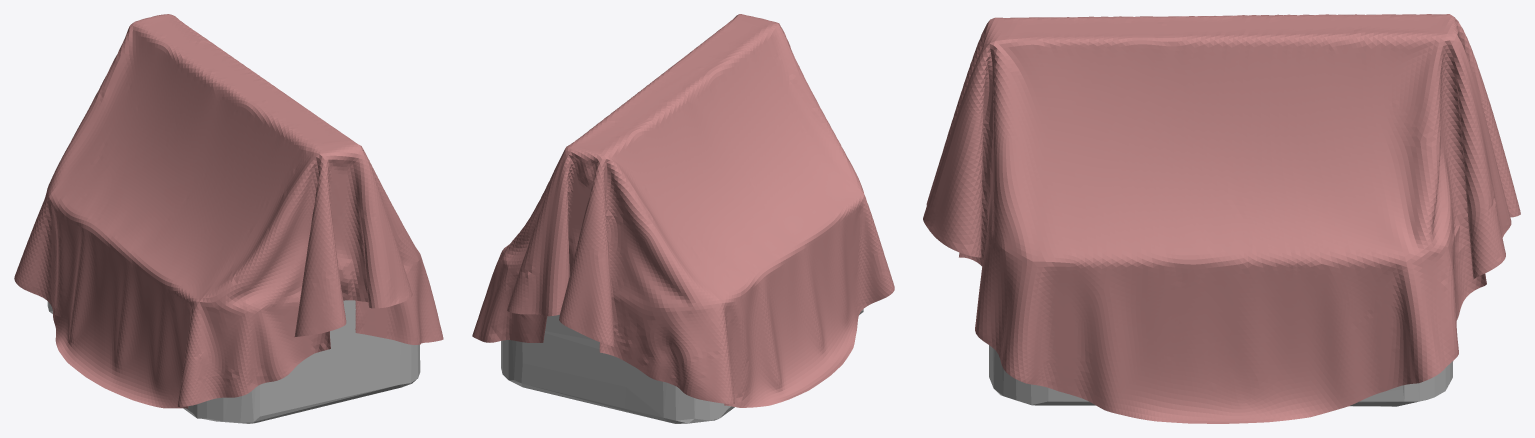
The model's file is level_3.glb.
3 renders of one model, left to right at view 1: azimuth 30°, elevation 25°; view 2: azimuth 150°, elevation 25°; view 3: azimuth 270°, elevation 25°, orthographic. The views are drawn at different scales.
Parts seen in each view (by area): view 1: world, object.obj; view 2: world, object.obj; view 3: world, object.obj.
Part boxes in pixels (x1=…): world: x1=14, y1=14, x2=443, y2=408; object.obj: x1=47, y1=300, x2=420, y2=423; world: x1=472, y1=14, x2=894, y2=407; object.obj: x1=501, y1=309, x2=863, y2=423; world: x1=923, y1=14, x2=1520, y2=423; object.obj: x1=989, y1=345, x2=1453, y2=406.
Bounding box in the file's own units: 0.2876 × 0.2486 × 0.4182.
